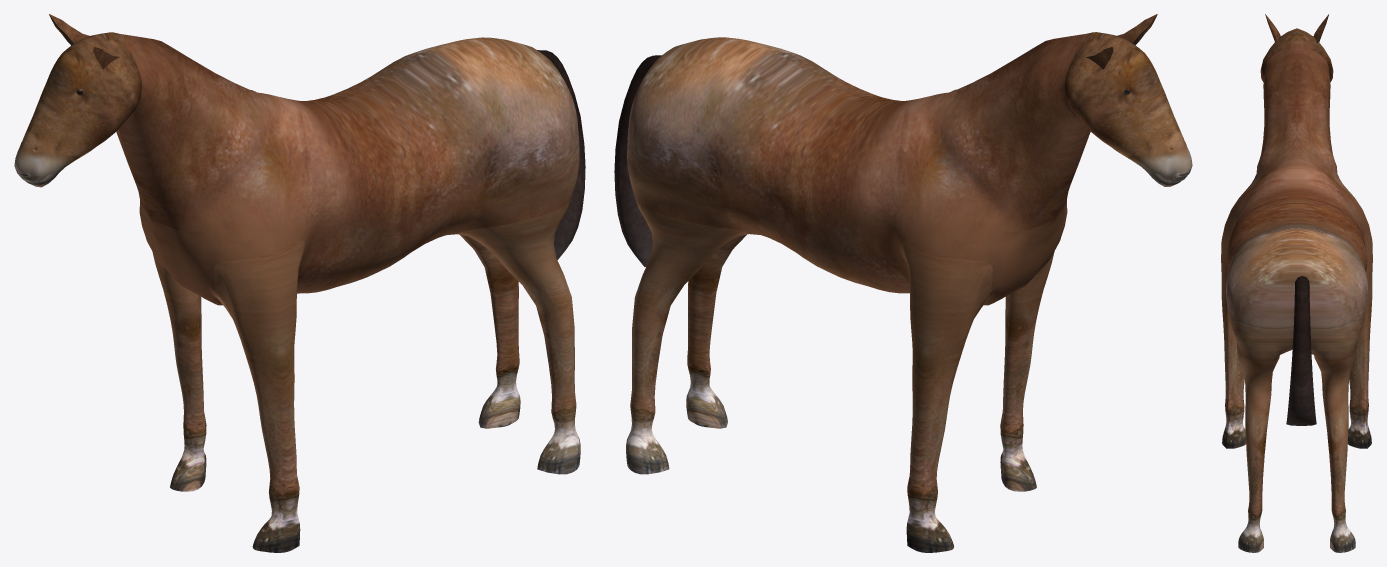
The model's file is Horse.obj.
3 views of the same model, side by side, from view 1: azimuth 30°, elevation 25°; view 2: azimuth 150°, elevation 25°; view 3: azimuth 270°, elevation 25° (orthographic). The views are drawn at different scales.
Visible parts, largest first — view 1: HORSE_3D_Models; view 2: HORSE_3D_Models; view 3: HORSE_3D_Models.
Part boxes in pixels (x1,y1,x2,y2): HORSE_3D_Models: (14, 14, 585, 552); HORSE_3D_Models: (614, 14, 1192, 552); HORSE_3D_Models: (1221, 14, 1372, 552).
Size of the model in its own units: 485 by 427 by 157.
1 material, 1 textured.
